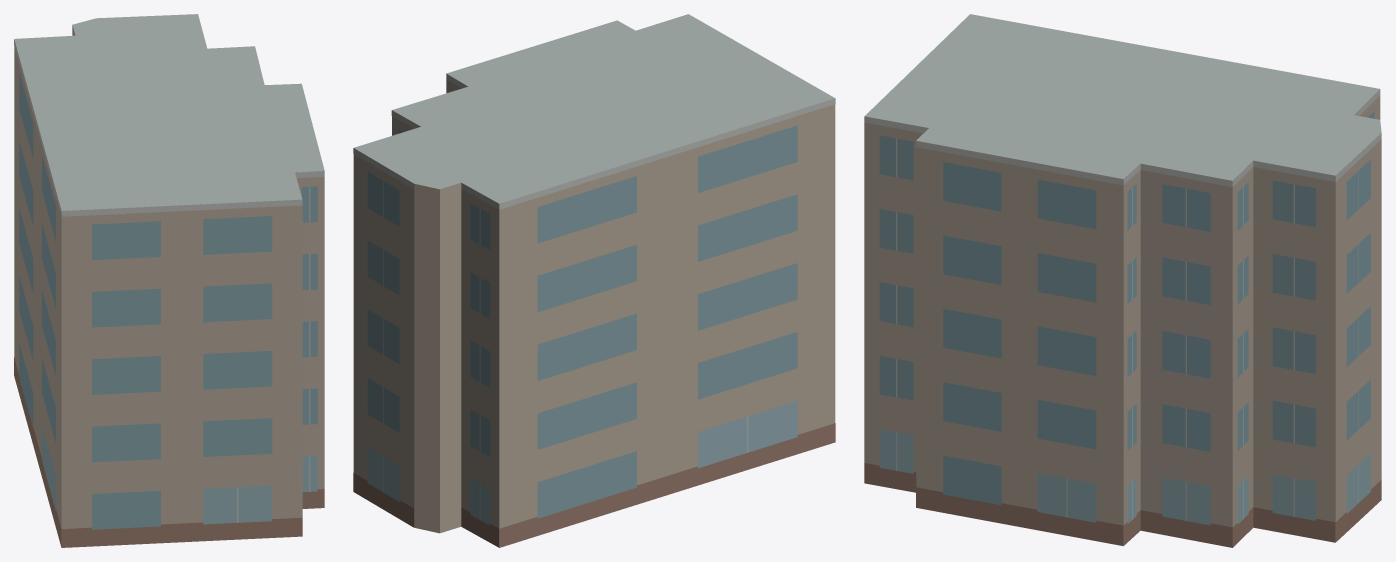
Rendered from survey-upis-32524334.glb.
3 views of the same model, side by side, from view 1: azimuth 30°, elevation 25°; view 2: azimuth 150°, elevation 25°; view 3: azimuth 270°, elevation 25° (orthographic). The views are drawn at different scales.
Visible parts, largest first — view 1: survey-upis-32524334.tmp; view 2: survey-upis-32524334.tmp; view 3: survey-upis-32524334.tmp.
Boxes of the visible parts, x1,y1,x2,y2 form: survey-upis-32524334.tmp: (14, 14, 324, 547); survey-upis-32524334.tmp: (353, 14, 835, 547); survey-upis-32524334.tmp: (864, 14, 1381, 547).
Bounding box in the file's own units: 13.86 × 14.2 × 18.15.
